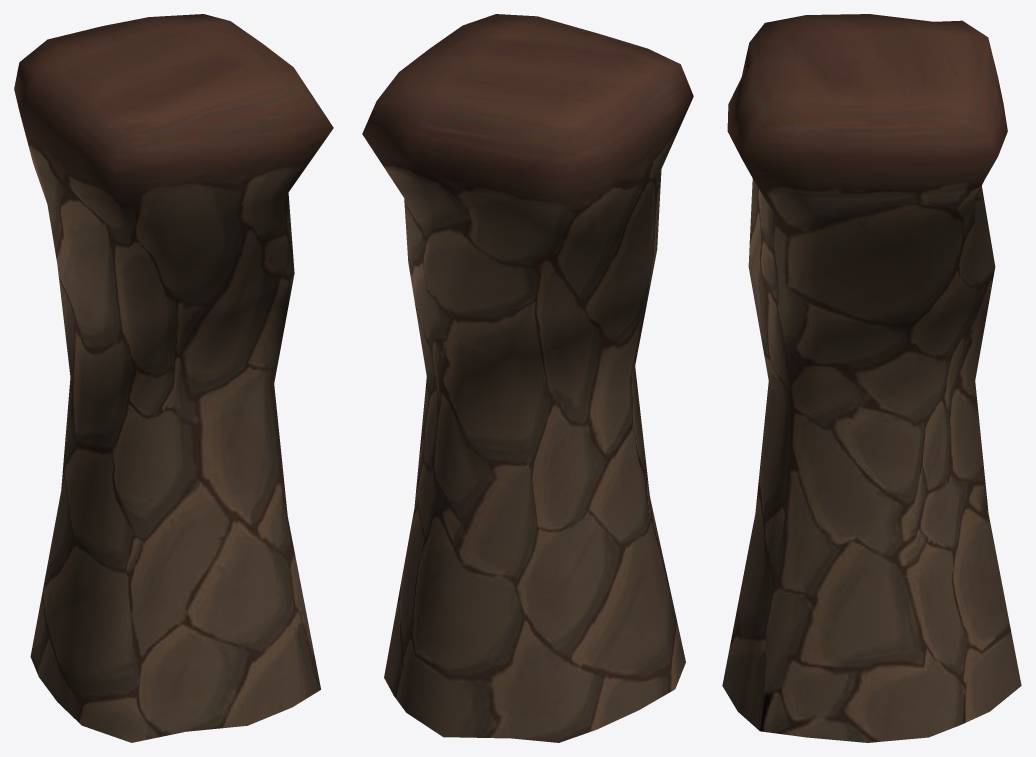
Rendered from Pillar.fbx.
3 views of the same model, side by side, from view 1: azimuth 30°, elevation 25°; view 2: azimuth 150°, elevation 25°; view 3: azimuth 270°, elevation 25° (orthographic).
Parts seen in each view (by area): view 1: pCube1; view 2: pCube1; view 3: pCube1.
Part boxes in pixels (<box>): pCube1: <box>14,14,333,742</box>; pCube1: <box>362,14,693,742</box>; pCube1: <box>722,14,1021,742</box>.
Bounding box in the file's own units: 9.59 × 23.36 × 10.24.
Materials: 1 (1 with a texture image).
